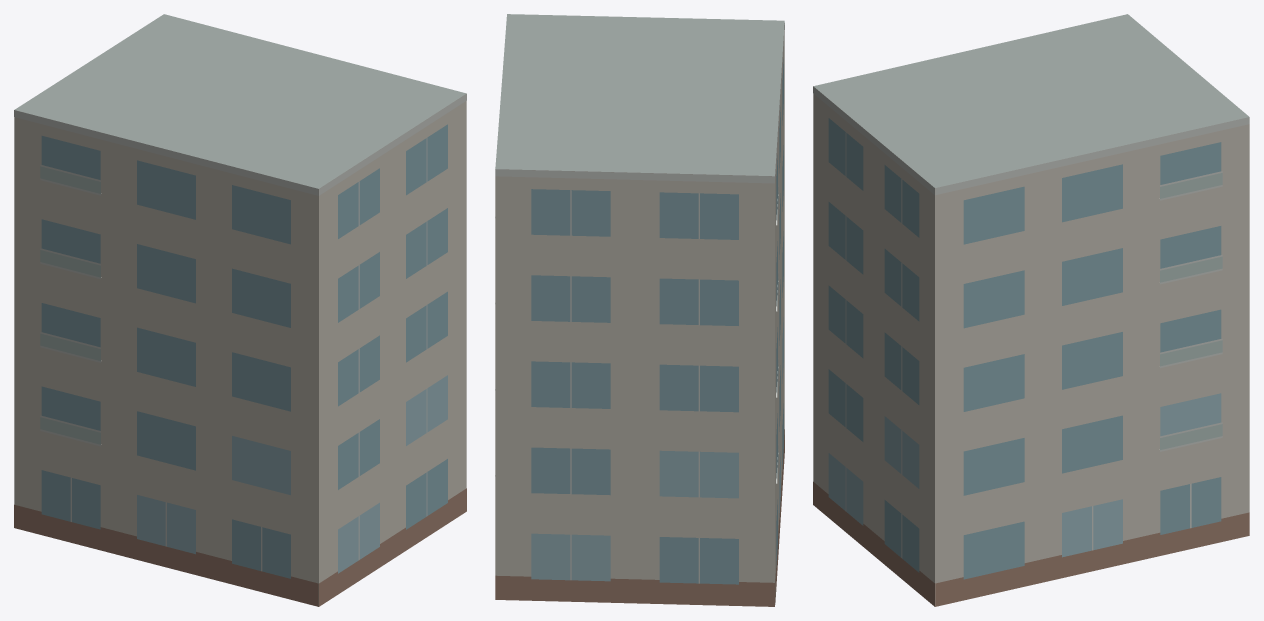
Rendered from survey-upis-32837121.glb.
The picture shows the model from 3 angles, left to right: view 1: azimuth 30°, elevation 25°; view 2: azimuth 150°, elevation 25°; view 3: azimuth 270°, elevation 25°; orthographic projection. The views are drawn at different scales.
Visible parts, largest first — view 1: survey-upis-32837121.tmp; view 2: survey-upis-32837121.tmp; view 3: survey-upis-32837121.tmp.
Part boxes in pixels (bbox=[...]): survey-upis-32837121.tmp: bbox=[14, 14, 466, 606]; survey-upis-32837121.tmp: bbox=[495, 14, 784, 606]; survey-upis-32837121.tmp: bbox=[813, 14, 1249, 606].
Bounding box in the file's own units: 12.86 × 14.4 × 13.61.
